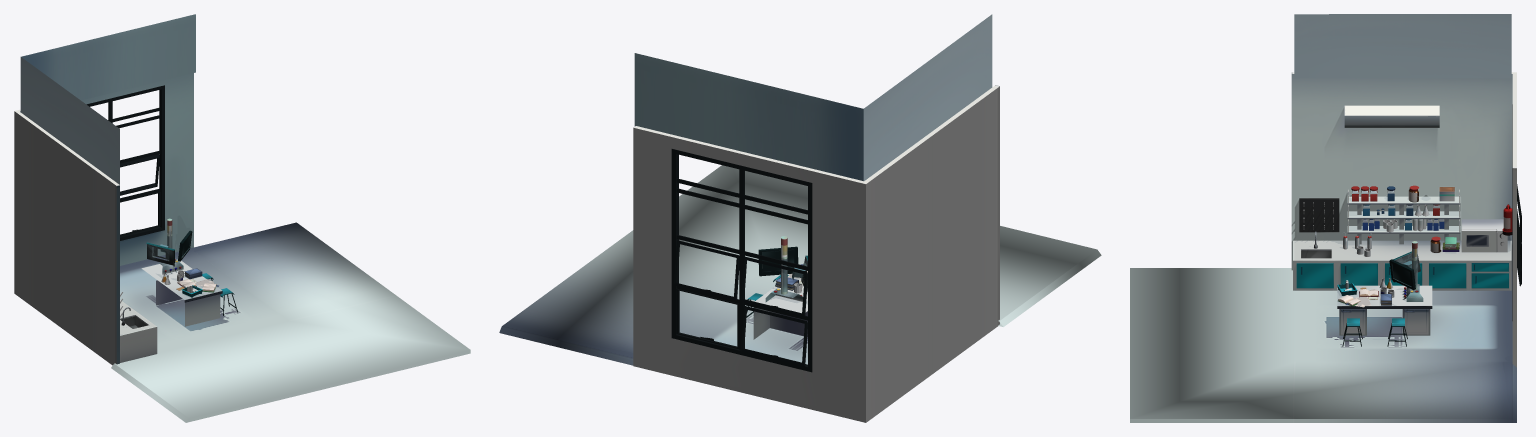
The model's file is Tx_Interior_Work_ScienceLab_20170713.fbx.
3 renders of one model, left to right at view 1: azimuth 30°, elevation 25°; view 2: azimuth 150°, elevation 25°; view 3: azimuth 270°, elevation 25°, orthographic. The views are drawn at different scales.
Parts seen in each view (by area): view 1: Expanded_:Expand, polySurface192, polySurface350, polySurface201, polySurface349, polySurface347, polySurface225, polySurface205; view 2: polySurface192, Expanded_:Expand, polySurface201, polySurface348, polySurface194, polySurface200, polySurface202, polySurface205, polySurface224, polySurface349, polySurface193, polySurface195 (+2 smaller); view 3: Expanded_:Expand, polySurface192, polySurface350, polySurface369, polySurface326, polySurface352, polySurface349, polySurface325, polySurface320, polySurface322, polySurface337, polySurface333 (+5 smaller).
Boxes of the visible parts, left/top/right/bottom form: Expanded_:Expand: left=20, top=14, right=470, bottom=422; polySurface192: left=14, top=73, right=288, bottom=365; polySurface350: left=120, top=300, right=157, bottom=362; polySurface201: left=86, top=85, right=164, bottom=240; polySurface349: left=141, top=259, right=222, bottom=302; polySurface347: left=185, top=294, right=220, bottom=326; polySurface225: left=146, top=242, right=174, bottom=266; polySurface205: left=120, top=154, right=159, bottom=195; polySurface192: left=633, top=85, right=999, bottom=422; Expanded_:Expand: left=499, top=14, right=1101, bottom=366; polySurface201: left=671, top=149, right=812, bottom=372; polySurface348: left=753, top=307, right=807, bottom=339; polySurface194: left=739, top=169, right=744, bottom=350; polySurface200: left=741, top=256, right=807, bottom=317; polySurface202: left=741, top=305, right=807, bottom=366; polySurface205: left=674, top=240, right=739, bottom=300; polySurface224: left=758, top=246, right=798, bottom=276; polySurface349: left=751, top=277, right=807, bottom=313; polySurface193: left=676, top=188, right=807, bottom=224; polySurface195: left=676, top=178, right=807, bottom=214; Expanded_:Expand: left=1130, top=14, right=1516, bottom=422; polySurface192: left=1291, top=72, right=1516, bottom=367; polySurface350: left=1293, top=240, right=1511, bottom=290; polySurface369: left=1344, top=105, right=1439, bottom=127; polySurface326: left=1461, top=219, right=1507, bottom=252; polySurface352: left=1299, top=198, right=1339, bottom=232; polySurface349: left=1337, top=285, right=1432, bottom=308; polySurface325: left=1296, top=263, right=1333, bottom=288; polySurface320: left=1429, top=263, right=1466, bottom=288; polySurface322: left=1340, top=263, right=1377, bottom=285; polySurface337: left=1347, top=211, right=1460, bottom=219; polySurface333: left=1347, top=196, right=1460, bottom=204.
Size of the model in its own units: 36.4 by 29.02 by 39.47.
Materials: 6 (6 with a texture image).
